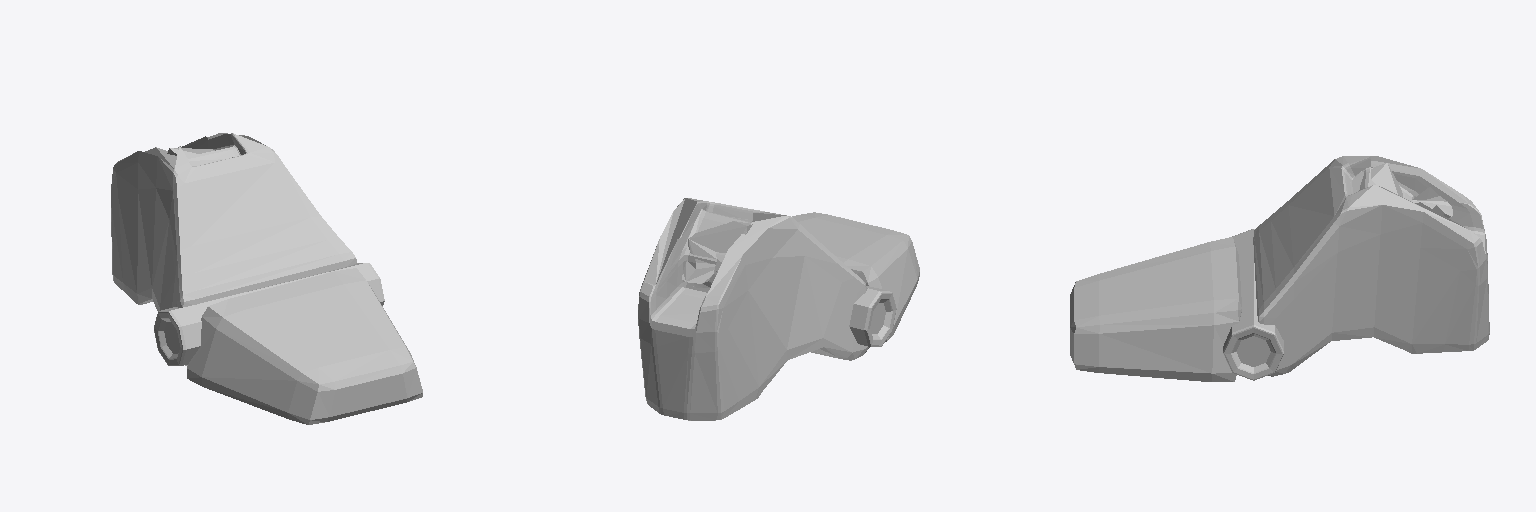
File: Pie_Derecho.obj
3 renders of one model, left to right at view 1: azimuth 30°, elevation 25°; view 2: azimuth 150°, elevation 25°; view 3: azimuth 270°, elevation 25°, orthographic.
Visible parts, largest first — view 1: rig_test.001; view 2: rig_test.001; view 3: rig_test.001.
Boxes of the visible parts, x1,y1,x2,y2 form: rig_test.001: [111, 133, 422, 424]; rig_test.001: [638, 198, 919, 420]; rig_test.001: [1070, 156, 1489, 381].
Bounding box in the file's own units: 17.54 × 14.02 × 31.59.